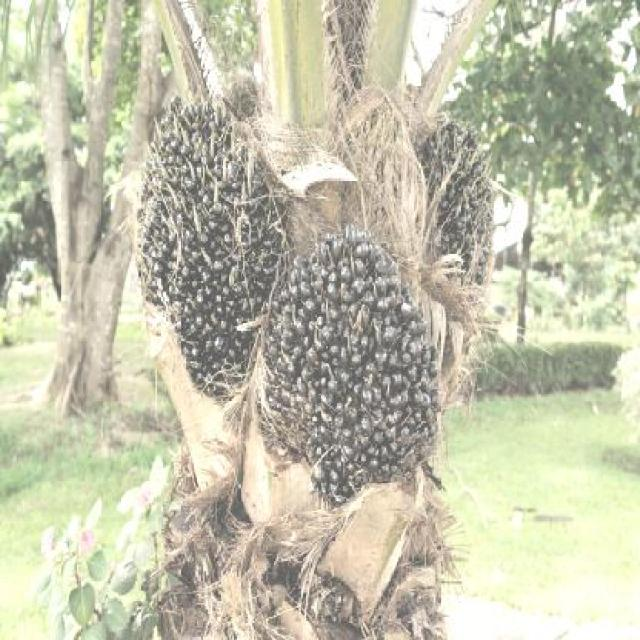palm-oil: (269, 218, 456, 505), (139, 104, 280, 380), (421, 116, 503, 317)
